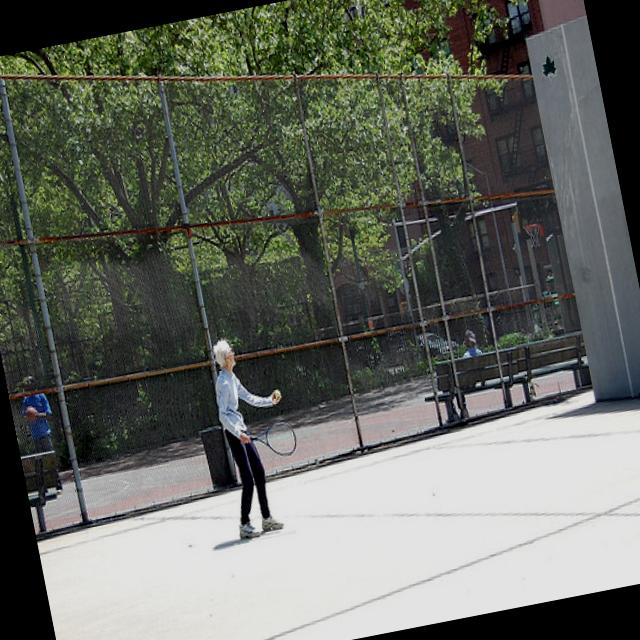Vehicle: (416, 326, 464, 365)
